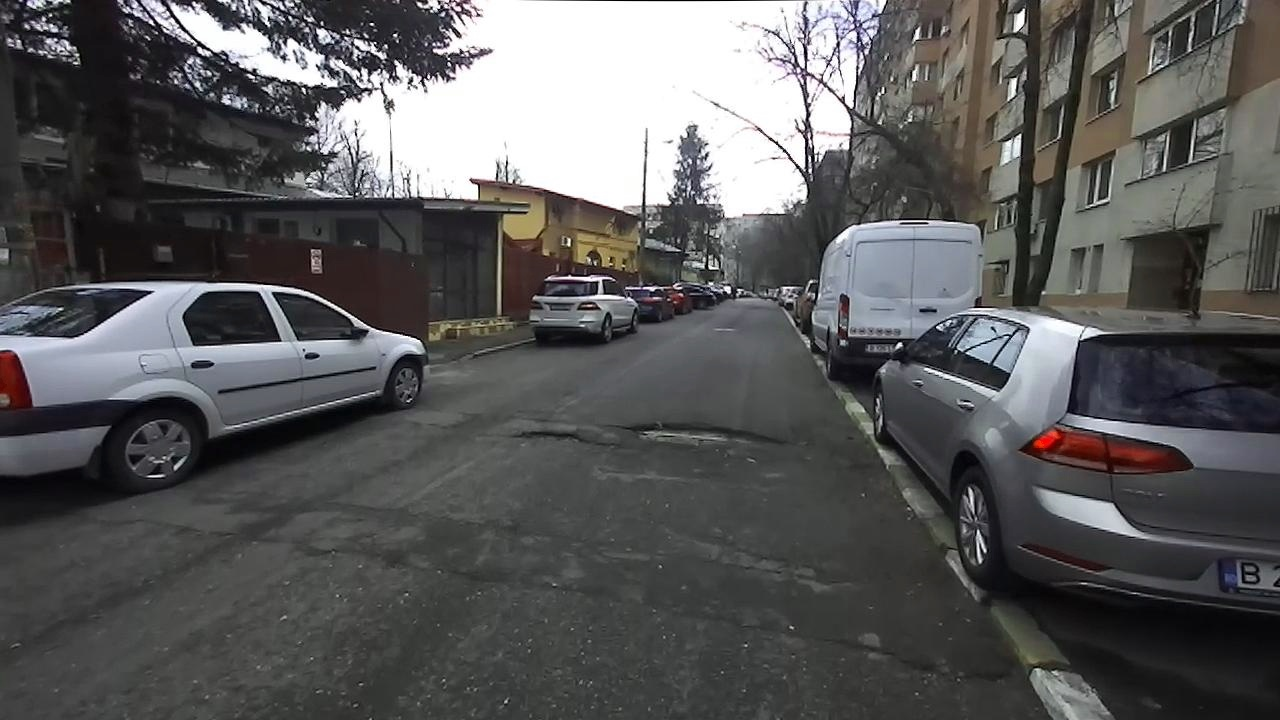pothole: (838, 634, 1002, 691), (606, 418, 786, 451), (508, 426, 592, 448)
